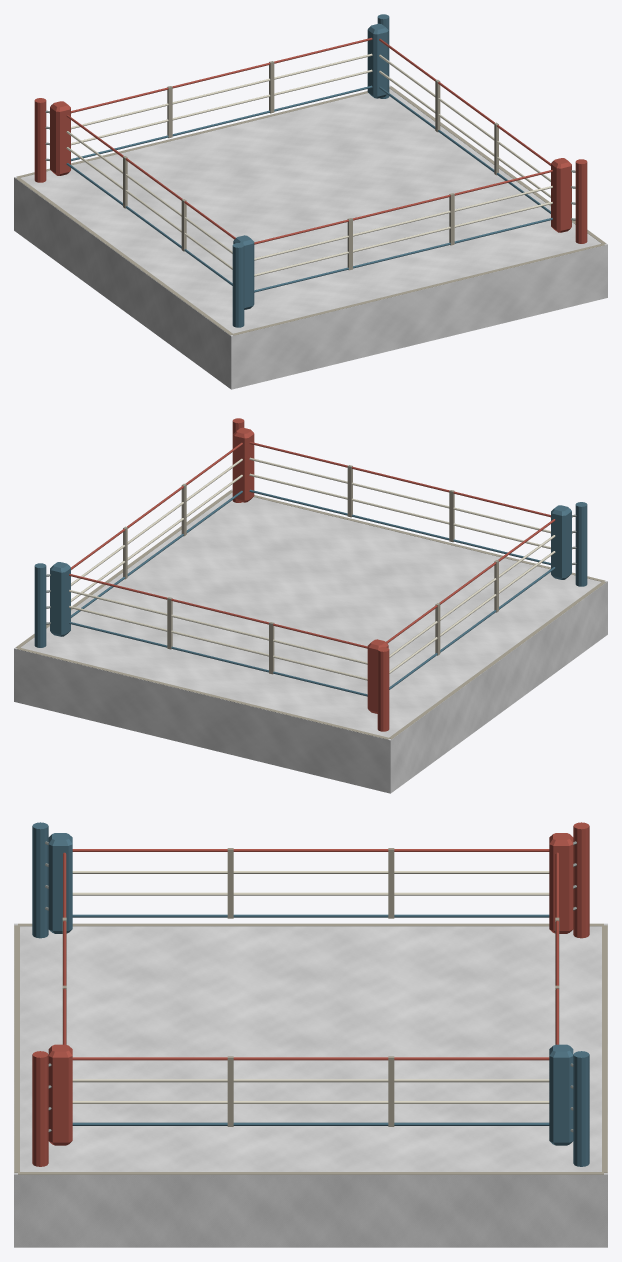
File: boxing_ring.glb
3 renders of one model, top to bottom at view 1: azimuth 30°, elevation 25°; view 2: azimuth 150°, elevation 25°; view 3: azimuth 270°, elevation 25°, orthographic. The views are drawn at different scales.
Visible parts, largest first — view 1: boxing_ring_Canvas, boxing_ring_Apron, boxing_ring_Red, boxing_ring_Blue, boxing_ring_CanvasEdge, boxing_ring_Ivory; view 2: boxing_ring_Canvas, boxing_ring_Apron, boxing_ring_Blue, boxing_ring_Red, boxing_ring_CanvasEdge, boxing_ring_Ivory; view 3: boxing_ring_Canvas, boxing_ring_Apron, boxing_ring_Red, boxing_ring_Blue, boxing_ring_CanvasEdge, boxing_ring_Ivory.
Boxes of the visible parts, left/top/right/bottom form: boxing_ring_Canvas: left=14, top=85, right=607, bottom=340; boxing_ring_Apron: left=14, top=182, right=607, bottom=389; boxing_ring_Red: left=34, top=37, right=587, bottom=244; boxing_ring_Blue: left=66, top=14, right=552, bottom=327; boxing_ring_CanvasEdge: left=16, top=61, right=605, bottom=335; boxing_ring_Ivory: left=66, top=53, right=552, bottom=276; boxing_ring_Canvas: left=14, top=489, right=607, bottom=744; boxing_ring_Apron: left=14, top=586, right=607, bottom=793; boxing_ring_Blue: left=34, top=489, right=587, bottom=696; boxing_ring_Red: left=69, top=418, right=555, bottom=731; boxing_ring_CanvasEdge: left=16, top=465, right=605, bottom=739; boxing_ring_Ivory: left=69, top=457, right=555, bottom=680; boxing_ring_Canvas: left=14, top=923, right=607, bottom=1180; boxing_ring_Apron: left=14, top=1180, right=607, bottom=1247; boxing_ring_Red: left=32, top=822, right=589, bottom=1166; boxing_ring_Blue: left=32, top=822, right=589, bottom=1166; boxing_ring_CanvasEdge: left=14, top=848, right=607, bottom=1174; boxing_ring_Ivory: left=72, top=871, right=549, bottom=1103.
Size of the model in its own units: 7.4 by 2.5 by 7.4.
8 materials, 2 textured.
